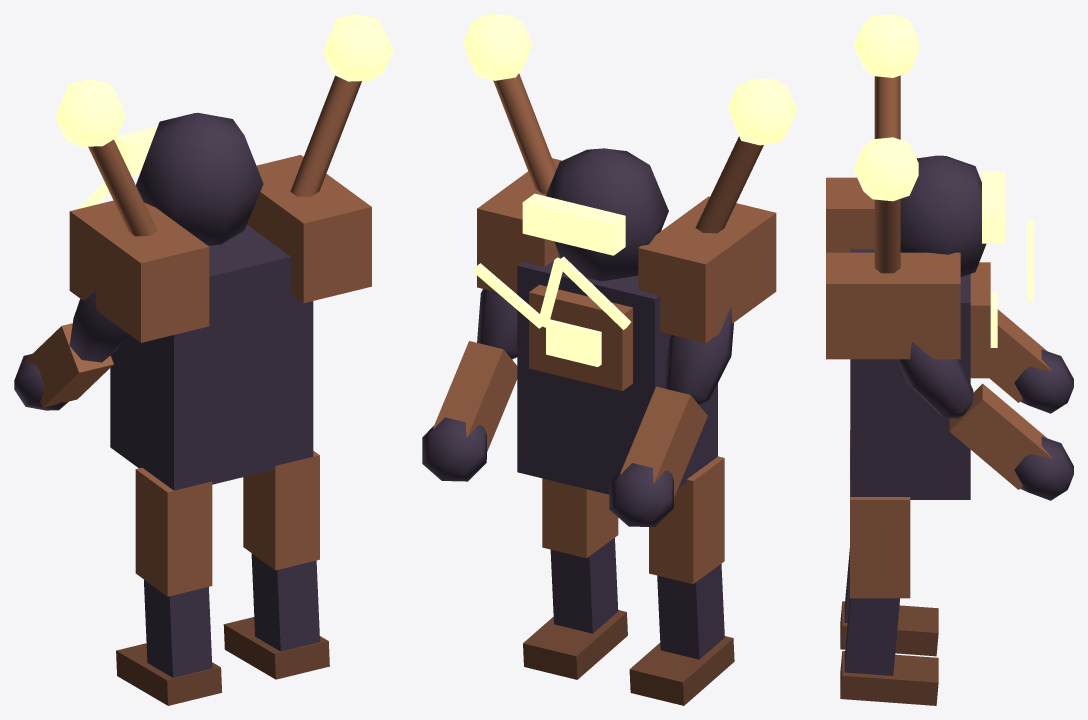
File: static.glb
3 views of the same model, side by side, from view 1: azimuth 30°, elevation 25°; view 2: azimuth 150°, elevation 25°; view 3: azimuth 270°, elevation 25° (orthographic). The views are drawn at different scales.
Parts seen in each view (by area): view 1: Merged7, Merged, Merged5, Merged3, _MeshInstance3D_819, _MeshInstance3D_829, Merged2, _MeshInstance3D_814; view 2: Merged7, Merged, Merged3, Merged5, Merged2, Merged4, _MeshInstance3D_819, _MeshInstance3D_829, _MeshInstance3D_814, Merged6, _MeshInstance3D_824; view 3: Merged7, Merged, Merged5, Merged4, _MeshInstance3D_829, Merged2, _MeshInstance3D_824, Merged3, Merged6.
Boxes of the visible parts, x1=… form: Merged7: x1=55, y1=14, x2=393, y2=490; Merged: x1=116, y1=112, x2=263, y2=245; Merged5: x1=223, y1=553, x2=329, y2=679; Merged3: x1=116, y1=580, x2=221, y2=705; _MeshInstance3D_819: x1=135, y1=467, x2=212, y2=596; _MeshInstance3D_829: x1=243, y1=451, x2=319, y2=570; Merged2: x1=14, y1=323, x2=113, y2=410; _MeshInstance3D_814: x1=69, y1=291, x2=129, y2=362; Merged7: x1=463, y1=14, x2=797, y2=494; Merged: x1=522, y1=148, x2=668, y2=281; Merged3: x1=629, y1=564, x2=734, y2=705; Merged5: x1=523, y1=538, x2=627, y2=679; Merged2: x1=609, y1=386, x2=707, y2=527; Merged4: x1=422, y1=341, x2=517, y2=481; _MeshInstance3D_819: x1=649, y1=456, x2=724, y2=584; _MeshInstance3D_829: x1=542, y1=478, x2=618, y2=558; _MeshInstance3D_814: x1=664, y1=306, x2=733, y2=404; Merged6: x1=473, y1=256, x2=630, y2=329; _MeshInstance3D_824: x1=477, y1=289, x2=517, y2=359; Merged7: x1=826, y1=14, x2=997, y2=499; Merged: x1=900, y1=155, x2=1004, y2=276; Merged5: x1=840, y1=598, x2=938, y2=705; Merged4: x1=949, y1=383, x2=1073, y2=500; _MeshInstance3D_829: x1=850, y1=480, x2=910, y2=598; Merged2: x1=990, y1=309, x2=1073, y2=413; _MeshInstance3D_824: x1=896, y1=341, x2=973, y2=418; Merged3: x1=840, y1=548, x2=938, y2=656; Merged6: x1=1027, y1=220, x2=1033, y2=301.
Bounding box in the file's own units: 1.25 × 2.28 × 0.8658.
